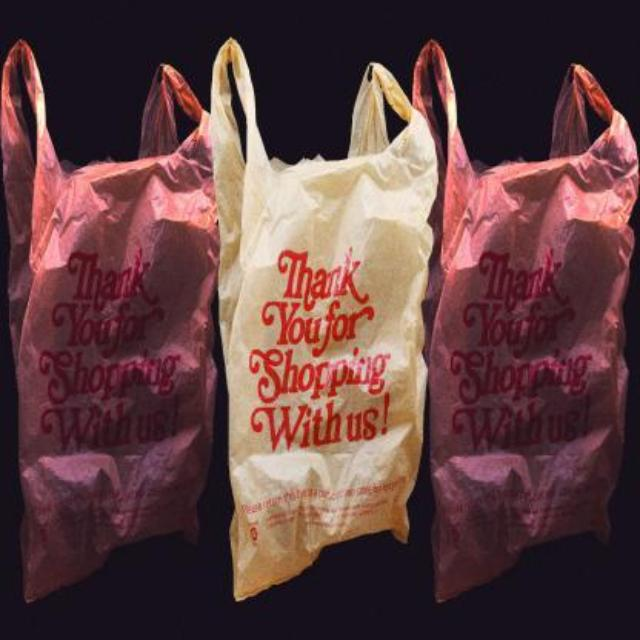sacola plástica: (214, 26, 434, 640), (1, 28, 216, 640), (431, 46, 639, 608)
